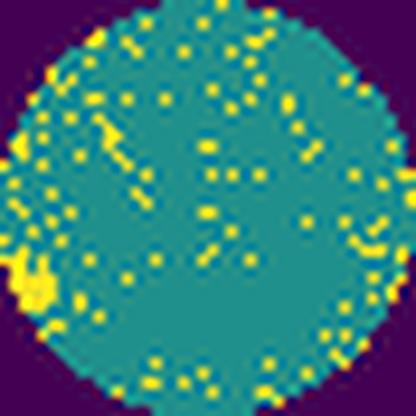Edge-Loc: (0, 248, 66, 321)
